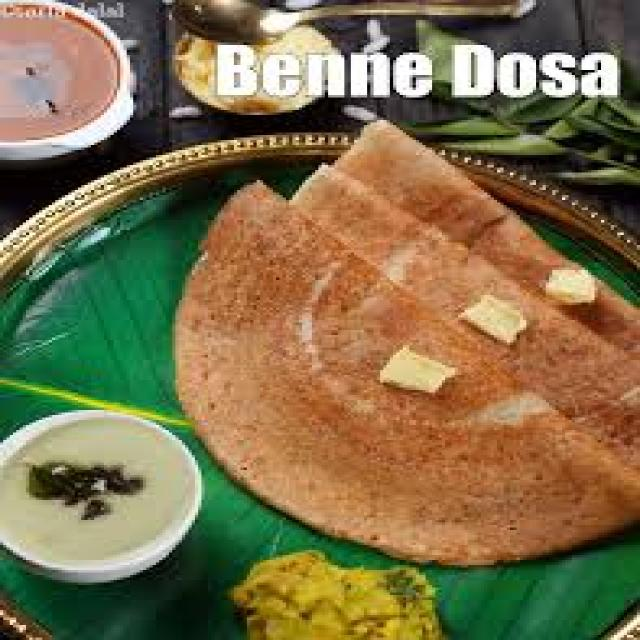DOSA: (175, 182, 637, 562)
